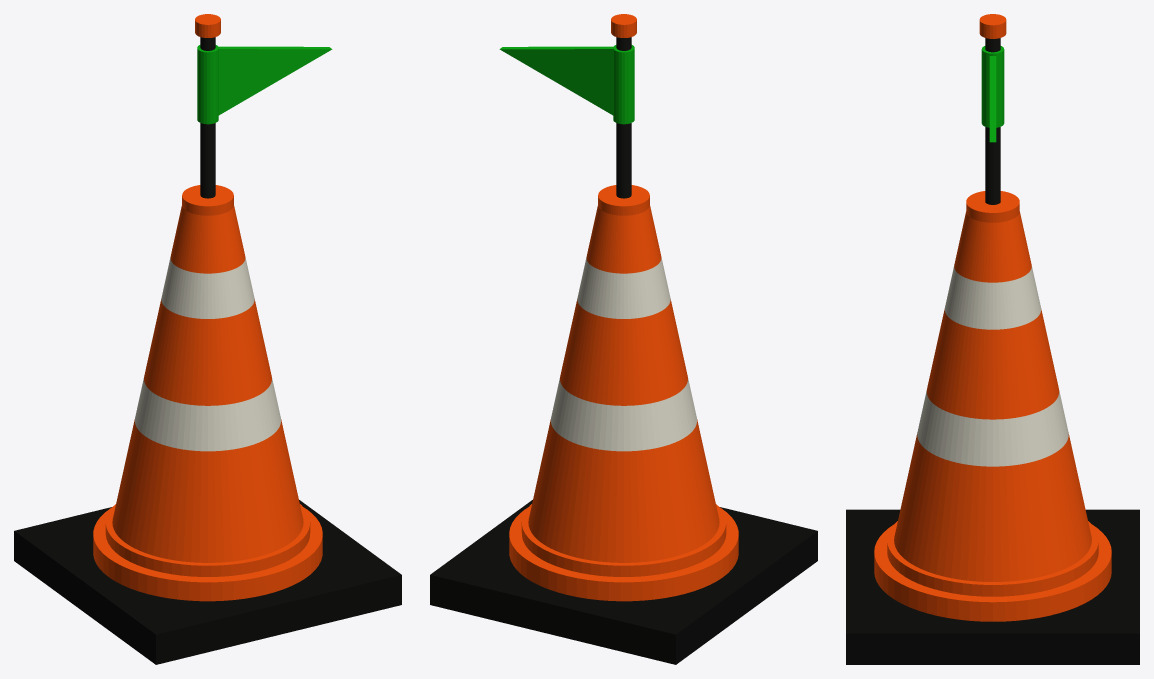
The model's file is trail_marker_cone_green_flag.obj.
The picture shows the model from 3 angles, left to right: view 1: azimuth 30°, elevation 25°; view 2: azimuth 150°, elevation 25°; view 3: azimuth 270°, elevation 25°; orthographic projection. The views are drawn at different scales.
Parts seen in each view (by area): view 1: trail_marker_cone_green_flag; view 2: trail_marker_cone_green_flag; view 3: trail_marker_cone_green_flag.
Part boxes in pixels (bbox=[...]): trail_marker_cone_green_flag: bbox=[14, 14, 401, 664]; trail_marker_cone_green_flag: bbox=[430, 14, 817, 664]; trail_marker_cone_green_flag: bbox=[846, 14, 1139, 664].
Bounding box in the file's own units: 0.68 × 1.49 × 0.68.
